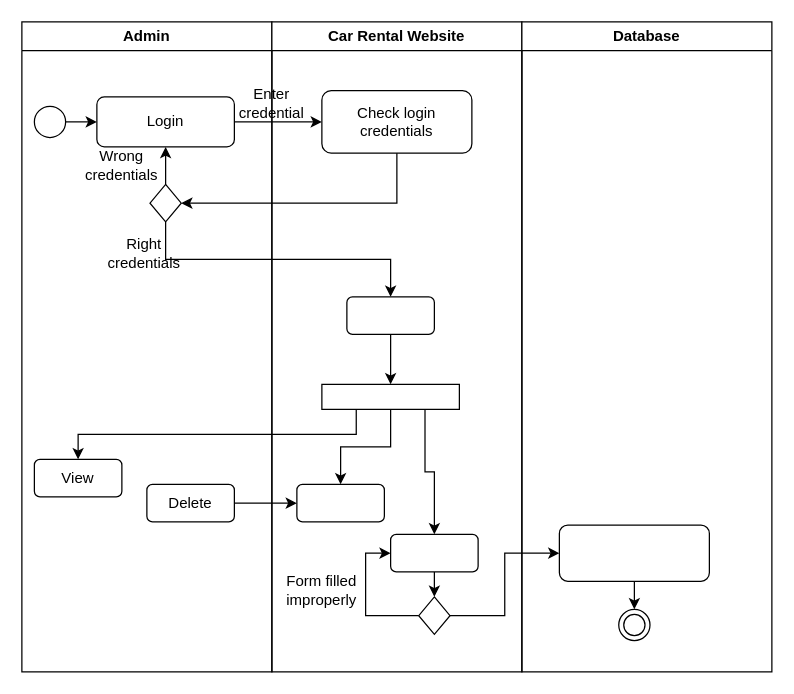
Image size: 794x694. Some labels were removed from this diagram. The shapes that lost their labels are listed below. From the top down, each one's centre as x and y in pixels, then its label:
the point at 390,315: Sidebar
the point at 340,502: Button
the point at 433,552: User forms
the point at 633,552: Save/modify information
